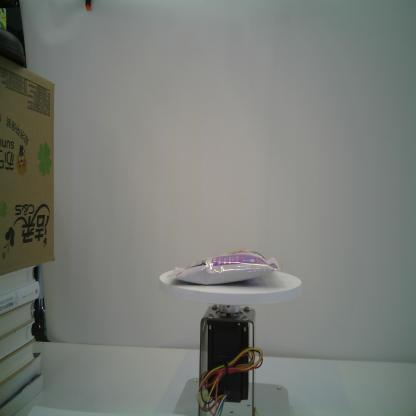Instant Drink: (167, 247, 282, 286)
